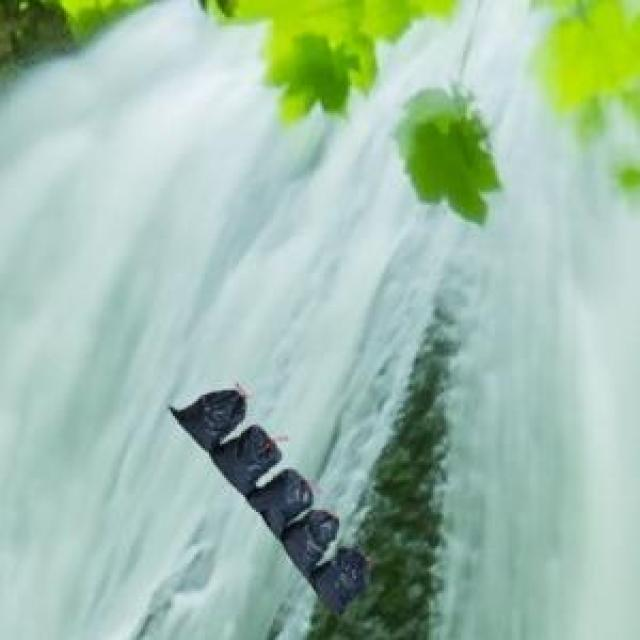Trashbag: (180, 382, 240, 438), (255, 469, 311, 525), (312, 551, 366, 609), (222, 430, 276, 480), (288, 514, 337, 559)
